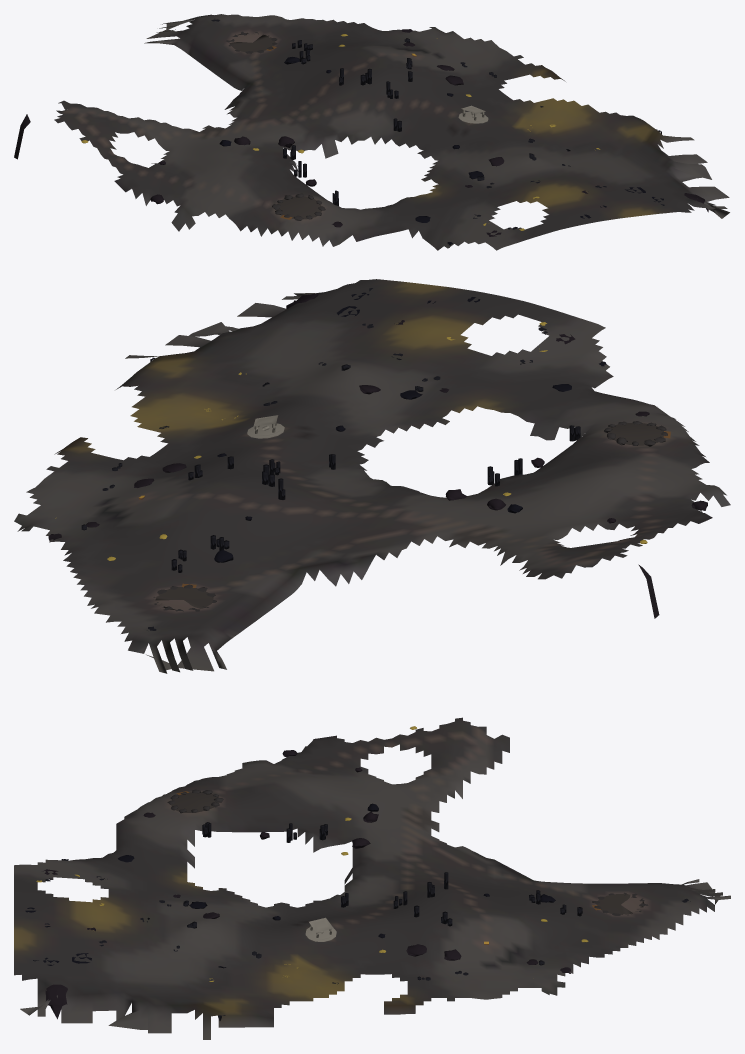
File: ash_isl_hot_spring.glb
3 views of the same model, one above another, from view 1: azimuth 30°, elevation 25°; view 2: azimuth 150°, elevation 25°; view 3: azimuth 270°, elevation 25° (orthographic). The views are drawn at different scales.
Visible parts, largest first — view 1: ash_isl_hot_spring; view 2: ash_isl_hot_spring; view 3: ash_isl_hot_spring.
Boxes of the visible parts, left/top/right/bottom form: ash_isl_hot_spring: left=14, top=14, right=729, bottom=250; ash_isl_hot_spring: left=14, top=279, right=730, bottom=673; ash_isl_hot_spring: left=14, top=717, right=730, bottom=1039.
Bounding box in the file's own units: 169 × 20.23 × 182.
